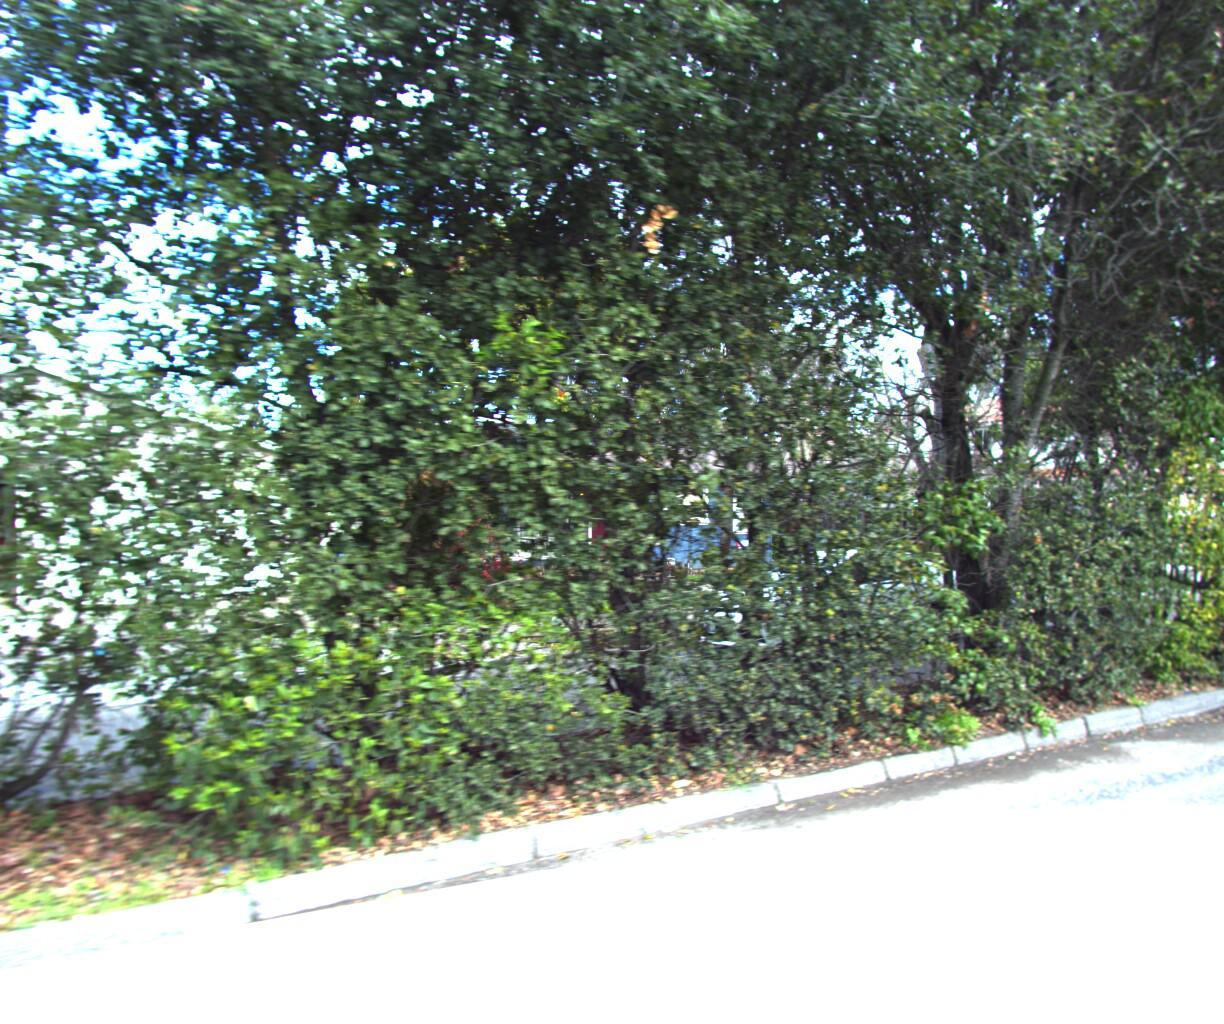car: (669, 546, 988, 679)
